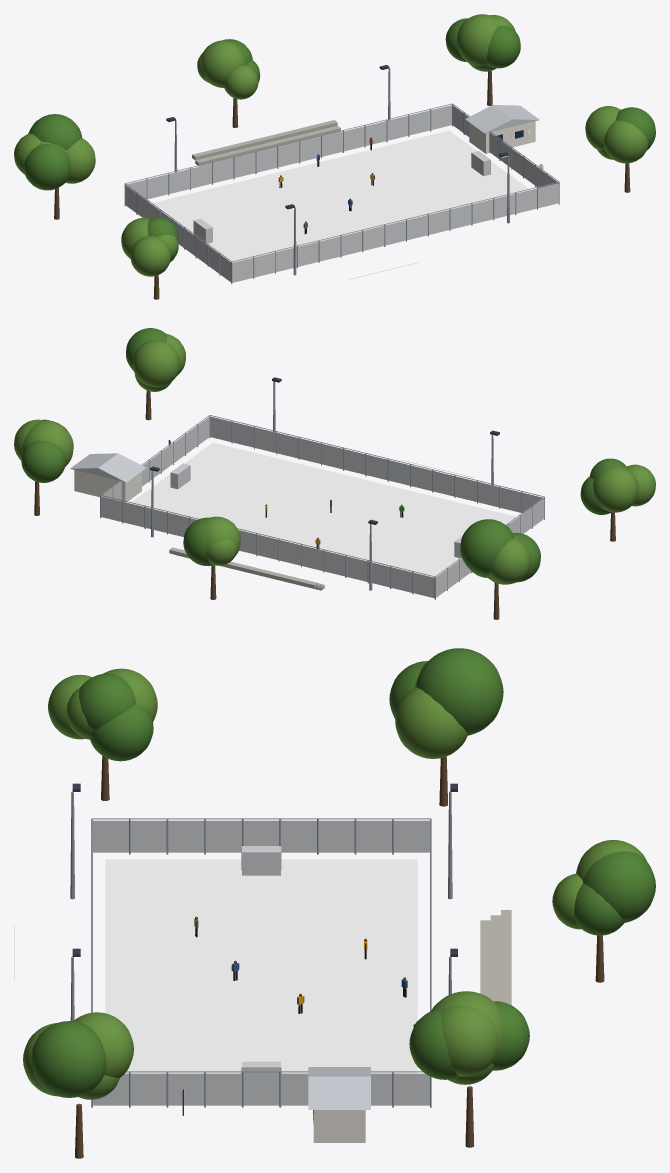
File: Terrain_multisport.glb
3 views of the same model, one above another, from view 1: azimuth 30°, elevation 25°; view 2: azimuth 150°, elevation 25°; view 3: azimuth 270°, elevation 25° (orthographic). The views are drawn at different scales.
Size of what is drawn, in the model's own units: 72.56 by 13.11 by 49.31.
